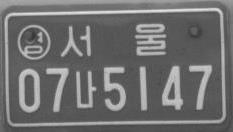0: (17, 67, 41, 114)
1: (133, 65, 154, 111)
4: (161, 64, 184, 110)
5: (102, 65, 127, 112)
7: (187, 64, 213, 110), (45, 66, 69, 113)
나: (75, 70, 97, 109)
서울_D: (60, 21, 167, 57)
영: (17, 23, 51, 60)
